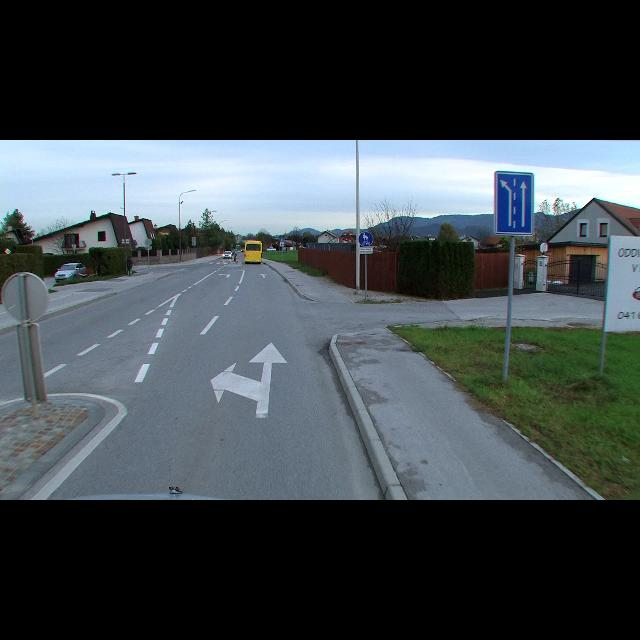Rectangle: (492, 170, 534, 236), (358, 248, 374, 255)
Round: (358, 231, 374, 247)
